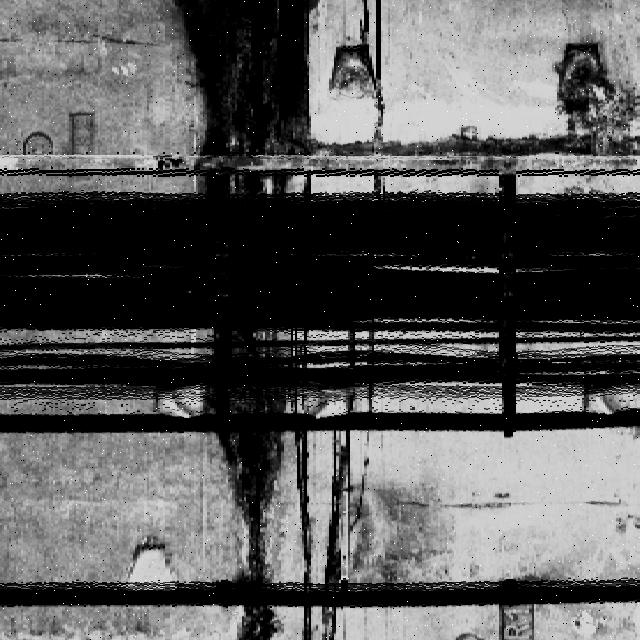leakage: (159, 0, 324, 199), (199, 344, 299, 639)
